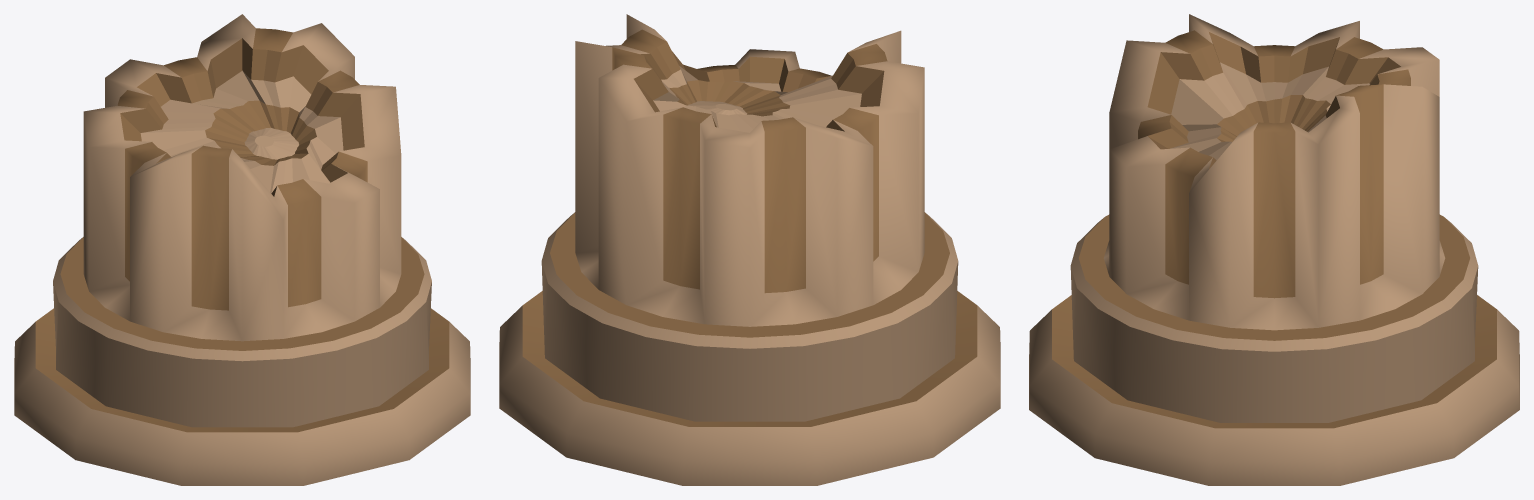
The model's file is Broken_Pillar_Bottom.fbx.
3 renders of one model, left to right at view 1: azimuth 30°, elevation 25°; view 2: azimuth 150°, elevation 25°; view 3: azimuth 270°, elevation 25°, orthographic. The views are drawn at different scales.
Visible parts, largest first — view 1: Pillar_Bot; view 2: Pillar_Bot; view 3: Pillar_Bot.
Boxes of the visible parts, box(x1,y1,x2,y2) form: Pillar_Bot: box(14, 14, 470, 485); Pillar_Bot: box(499, 14, 1000, 485); Pillar_Bot: box(1029, 14, 1519, 485).
Bounding box in the file's own units: 193 × 193 × 144.
